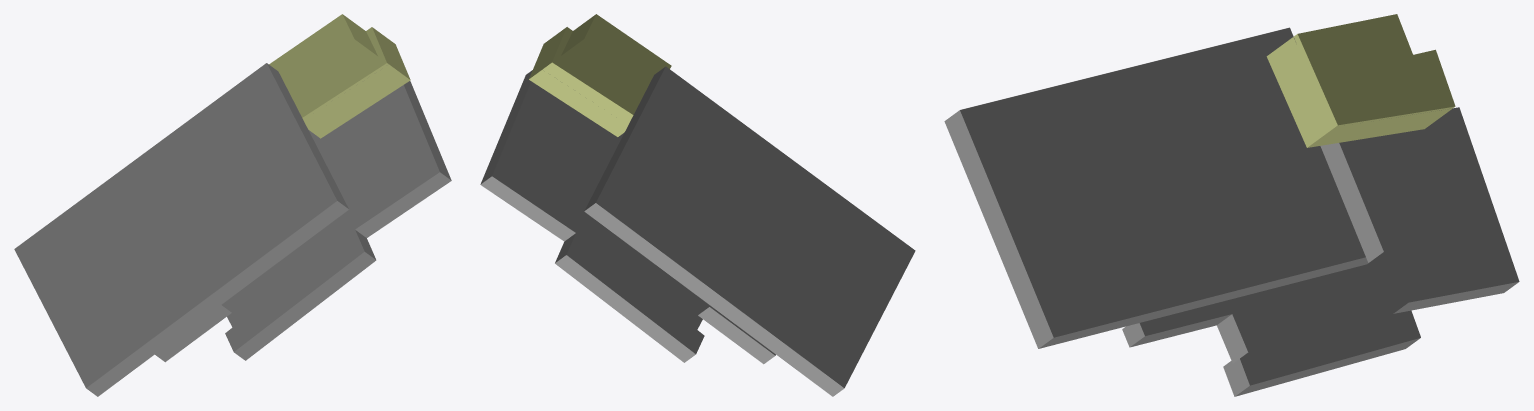
The picture shows the model from 3 angles, left to right: view 1: azimuth 30°, elevation 25°; view 2: azimuth 150°, elevation 25°; view 3: azimuth 330°, elevation 25°; orthographic projection. The views are drawn at different scales.
Parts seen in each view (by area): view 1: 0_1_0_2_1_3_2_3; view 2: 0_1_0_2_1_3_2_3; view 3: 0_1_0_2_1_3_2_3.
Part boxes in pixels (box(x1,y1,x2,y2)): 0_1_0_2_1_3_2_3: box(14, 14, 451, 396); 0_1_0_2_1_3_2_3: box(480, 14, 915, 396); 0_1_0_2_1_3_2_3: box(944, 14, 1519, 396).
Size of the model in its own units: 62.51 by 43.35 by 6.
